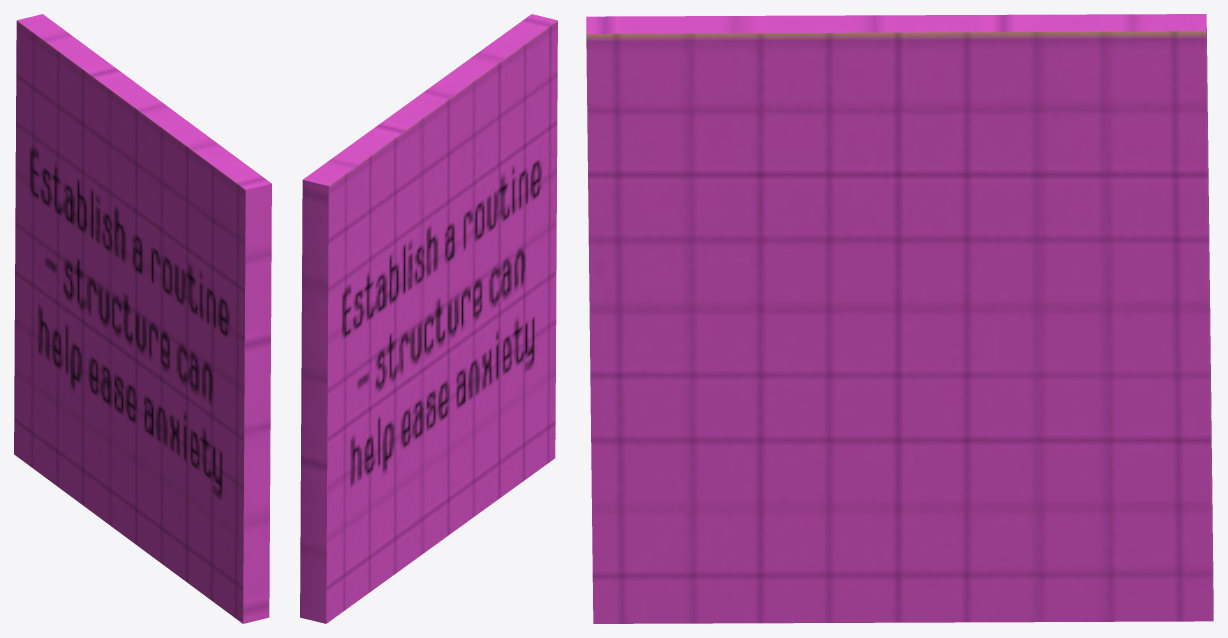
File: note8.fbx
3 views of the same model, side by side, from view 1: azimuth 30°, elevation 25°; view 2: azimuth 150°, elevation 25°; view 3: azimuth 270°, elevation 25° (orthographic). The views are drawn at different scales.
Visible parts, largest first — view 1: note8; view 2: note8; view 3: note8.
Part boxes in pixels (x1,y1,x2,y2): note8: [14, 14, 271, 623]; note8: [300, 14, 557, 623]; note8: [586, 14, 1213, 623].
Size of the model in its own units: 1.53 by 24.35 by 23.36.
1 material, 1 textured.
